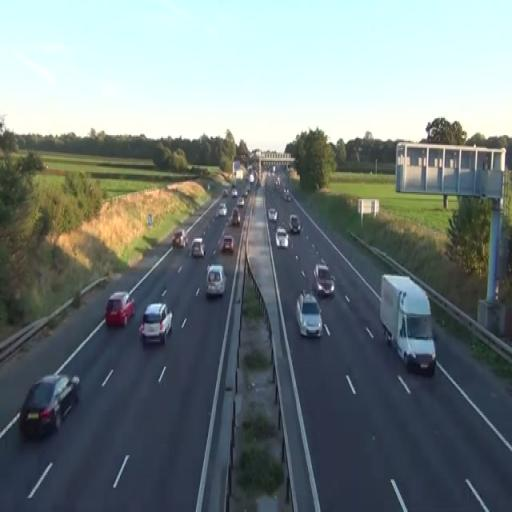Car: (19, 373, 81, 441), (139, 302, 173, 345), (296, 291, 322, 338), (105, 291, 135, 326), (313, 262, 335, 298), (205, 264, 226, 298), (172, 229, 188, 250), (276, 226, 289, 250), (191, 238, 205, 258), (220, 235, 234, 254), (229, 207, 240, 227), (218, 203, 227, 217)
Truck: (379, 274, 436, 376)
